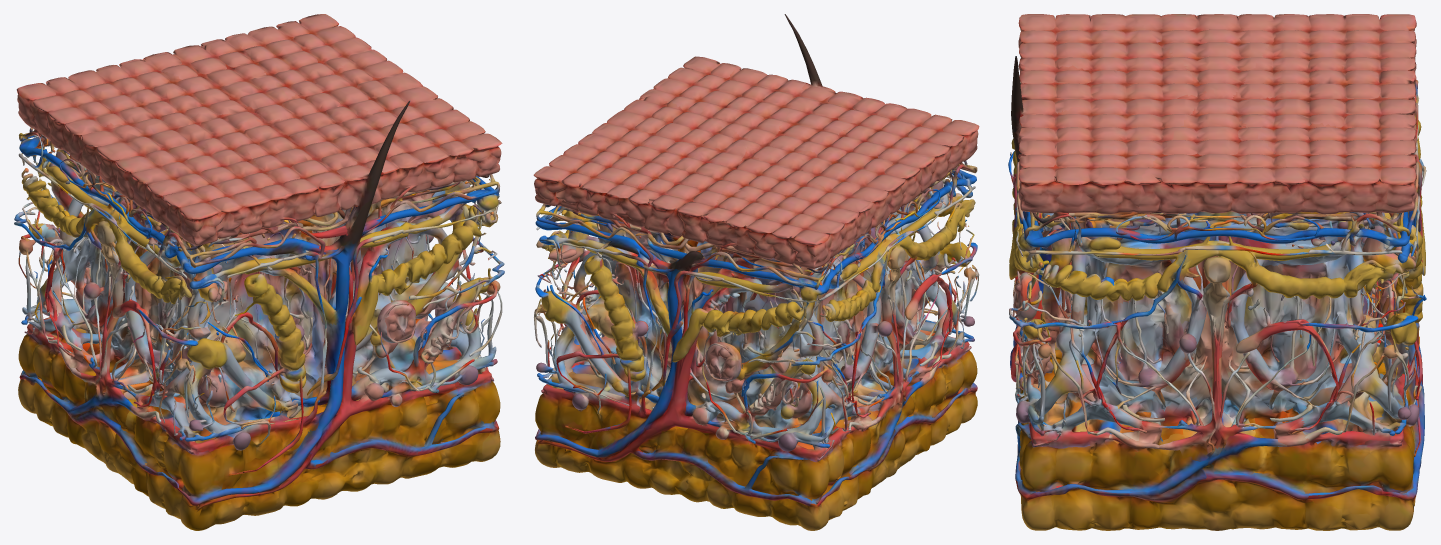
Rendered from skin-v2.glb.
The picture shows the model from 3 angles, left to right: view 1: azimuth 30°, elevation 25°; view 2: azimuth 150°, elevation 25°; view 3: azimuth 270°, elevation 25°; orthographic projection. The views are drawn at different scales.
Visible parts, largest first — view 1: tripo_node_e3968db0-8ae7-4569-8415-c12b30e2fd3c; view 2: tripo_node_e3968db0-8ae7-4569-8415-c12b30e2fd3c; view 3: tripo_node_e3968db0-8ae7-4569-8415-c12b30e2fd3c.
Part boxes in pixels (x1=…): tripo_node_e3968db0-8ae7-4569-8415-c12b30e2fd3c: x1=14, y1=14, x2=504, y2=530; tripo_node_e3968db0-8ae7-4569-8415-c12b30e2fd3c: x1=533, y1=14, x2=979, y2=530; tripo_node_e3968db0-8ae7-4569-8415-c12b30e2fd3c: x1=1008, y1=14, x2=1426, y2=530.
Size of the model in its own units: 0.9012 by 0.9998 by 0.8848.
1 material, 1 textured.
